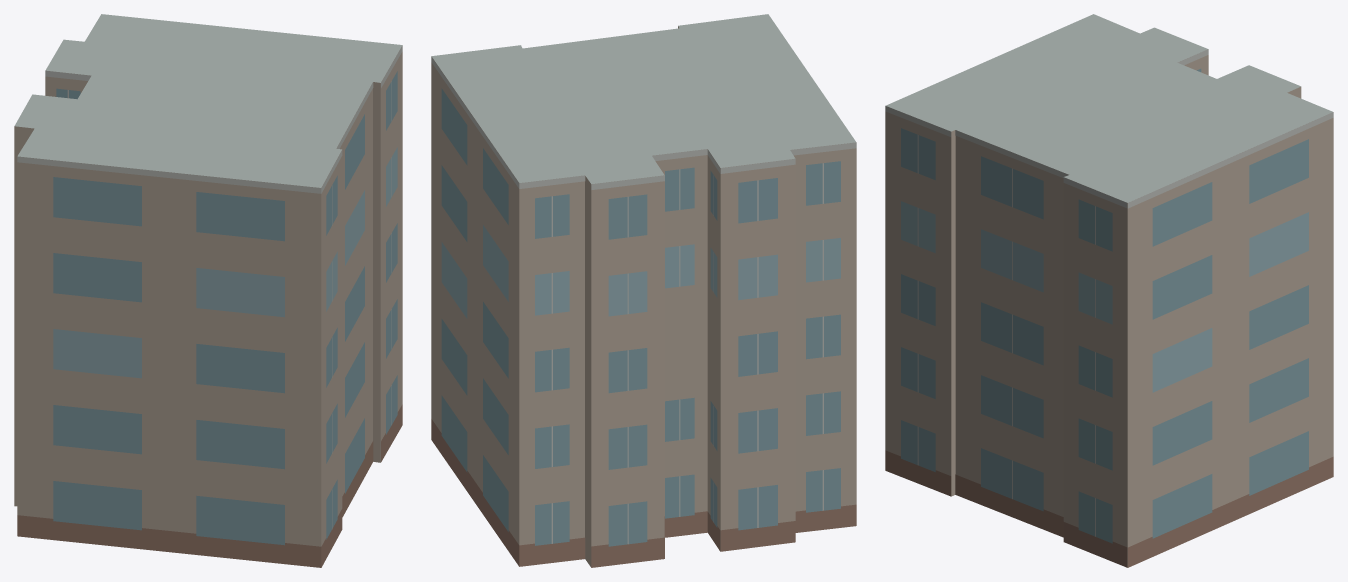
File: survey-upis-32673880.glb
3 renders of one model, left to right at view 1: azimuth 30°, elevation 25°; view 2: azimuth 150°, elevation 25°; view 3: azimuth 270°, elevation 25°, orthographic. The views are drawn at different scales.
Parts seen in each view (by area): view 1: survey-upis-32673880.tmp; view 2: survey-upis-32673880.tmp; view 3: survey-upis-32673880.tmp.
Part boxes in pixels (left/top/right/bottom): survey-upis-32673880.tmp: left=14, top=14, right=402, bottom=567; survey-upis-32673880.tmp: left=431, top=14, right=856, bottom=567; survey-upis-32673880.tmp: left=885, top=14, right=1333, bottom=567.
Bounding box in the file's own units: 17.44 × 15.7 × 17.48.
